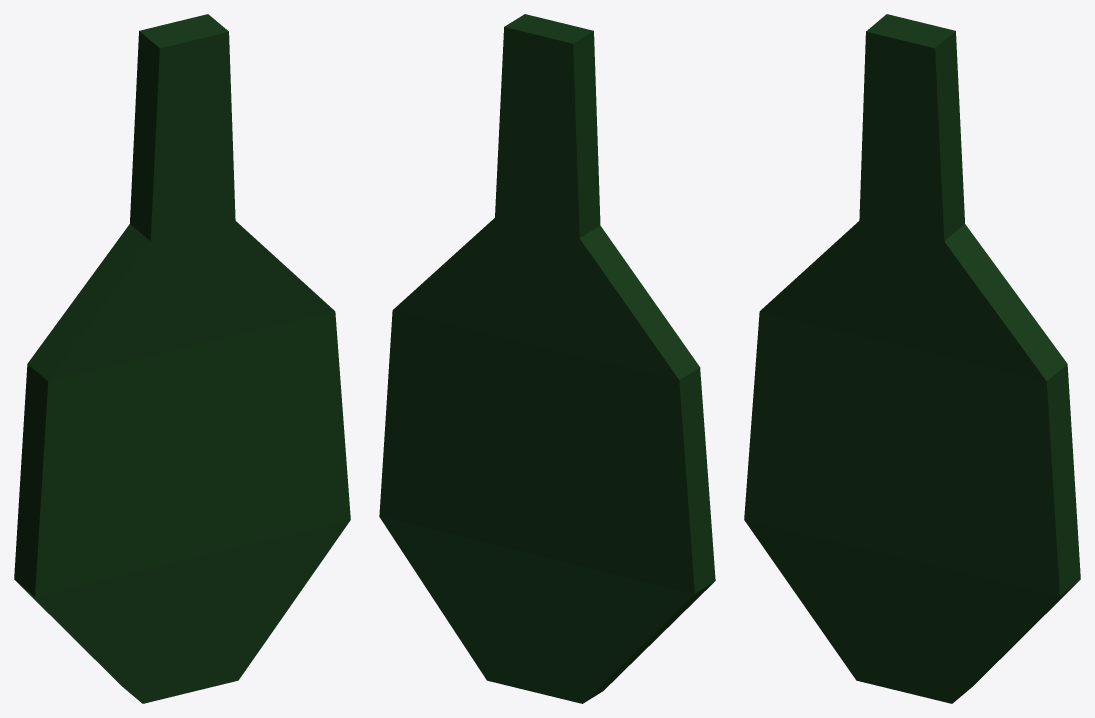
Rendered from MixedGreenCollider.obj.
The picture shows the model from 3 angles, left to right: view 1: azimuth 30°, elevation 25°; view 2: azimuth 150°, elevation 25°; view 3: azimuth 330°, elevation 25°; orthographic projection.
Parts seen in each view (by area): view 1: leek.002, leek.001; view 2: leek.002, leek.001; view 3: leek.002, leek.001.
Part boxes in pixels (<box>): leek.002: <box>14,220,350,703</box>; leek.001: <box>130,14,235,241</box>; leek.002: <box>379,218,715,703</box>; leek.001: <box>495,14,600,238</box>; leek.002: <box>744,220,1080,703</box>; leek.001: <box>859,14,964,241</box>.
Size of the model in its own units: 0.0365 by 0.0727 by 0.00494.
